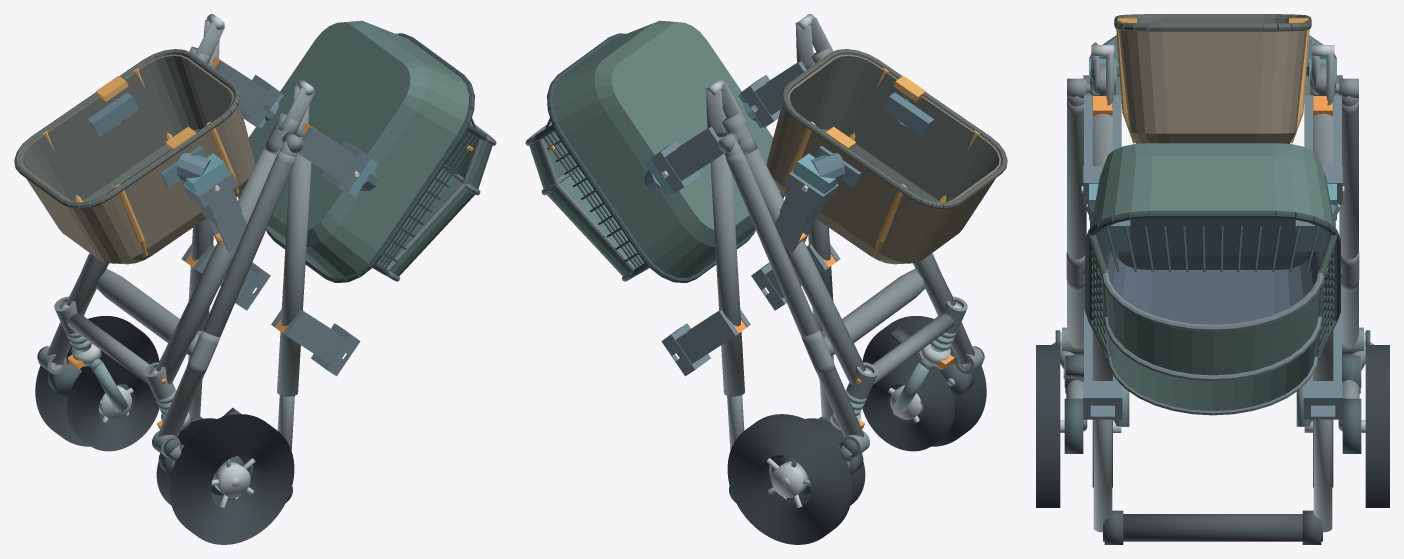
The model's file is D35_w380_state3_wheel_S.glb.
The picture shows the model from 3 angles, left to right: view 1: azimuth 30°, elevation 25°; view 2: azimuth 150°, elevation 25°; view 3: azimuth 270°, elevation 25°; orthographic projection. The views are drawn at different scales.
Parts seen in each view (by area): view 1: D35_Upper, D35_Lower, RL_tire.013, V46_rear_leg_-1, FR_tire.013, main_upper_-1.001, main_lower_-1.001, RR_tire.013, D35_Lower_Mount_L, Universal_Cabin_Receiver_H_-1, V46_rearbar, Universal_Cabin_Receiver_M_-1 (+17 smaller); view 2: D35_Upper, D35_Lower, RR_tire.013, V46_rear_leg_1, FL_tire.013, main_upper_1.001, main_lower_1.001, D35_Lower_Mount_L, RL_tire.013, Universal_Cabin_Receiver_H_1, V46_rearbar, Universal_Cabin_Receiver_M_1 (+18 smaller); view 3: D35_Upper, D35_Lower, round_handle.012, RL_tire.013, RR_tire.013, V46_rear_leg_1, V46_rear_leg_-1, handle_slider_1.012, handle_slider_-1.012, Universal_Cabin_Receiver_H_1, Universal_Cabin_Receiver_H_-1, D35_Upper_Mount_M (+14 smaller).
Part boxes in pixels (x1,y1,x2,y2): D35_Upper: (237,20,496,282); D35_Lower: (14,49,255,264); RL_tire.013: (169,414,294,544); V46_rear_leg_-1: (158,150,295,437); FR_tire.013: (67,355,159,451); main_upper_-1.001: (277,137,311,396); main_lower_-1.001: (156,144,282,384); RR_tire.013: (35,316,159,446); D35_Lower_Mount_L: (87,92,229,194); Universal_Cabin_Receiver_H_-1: (271,309,360,376); V46_rearbar: (97,269,199,355); Universal_Cabin_Receiver_M_-1: (297,125,370,193); D35_Upper: (525,20,784,282); D35_Lower: (766,49,1007,264); RR_tire.013: (727,414,852,544); V46_rear_leg_1: (726,150,863,437); FL_tire.013: (862,355,954,451); main_upper_1.001: (710,137,744,396); main_lower_1.001: (739,144,865,384); D35_Lower_Mount_L: (792,92,934,194); RL_tire.013: (862,316,986,446); Universal_Cabin_Receiver_H_1: (661,309,750,376); V46_rearbar: (822,269,924,355); Universal_Cabin_Receiver_M_1: (651,118,724,193); D35_Upper: (1085,143,1340,415); D35_Lower: (1114,14,1311,143); round_handle.012: (1103,514,1322,541); RL_tire.013: (1036,345,1060,507); RR_tire.013: (1365,345,1389,507); V46_rear_leg_1: (1339,99,1358,348); V46_rear_leg_-1: (1067,99,1086,348); handle_slider_1.012: (1313,419,1332,532); handle_slider_-1.012: (1093,419,1112,532); Universal_Cabin_Receiver_H_1: (1303,310,1342,419); Universal_Cabin_Receiver_H_-1: (1083,310,1122,419); D35_Upper_Mount_M: (1081,183,1344,251).
Bounding box in the file's own units: 0.7543 × 0.6926 × 0.434.
